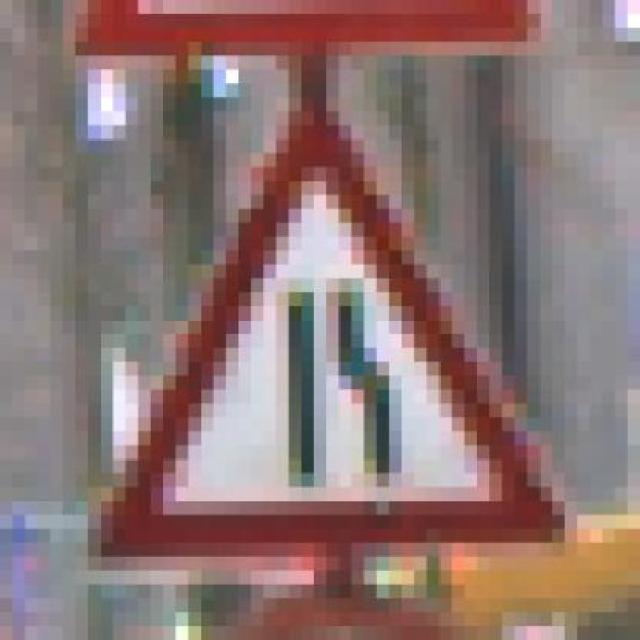-Road narrows on right: (75, 83, 578, 557)
